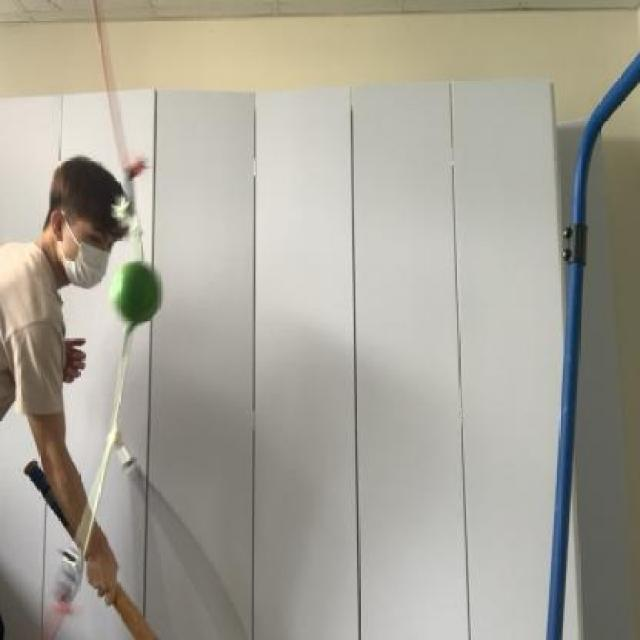baseball: (110, 254, 165, 335)
